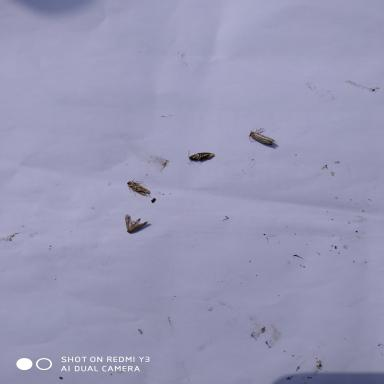pbw: (246, 124, 278, 149), (124, 176, 156, 199), (182, 148, 220, 167), (121, 212, 152, 235)
